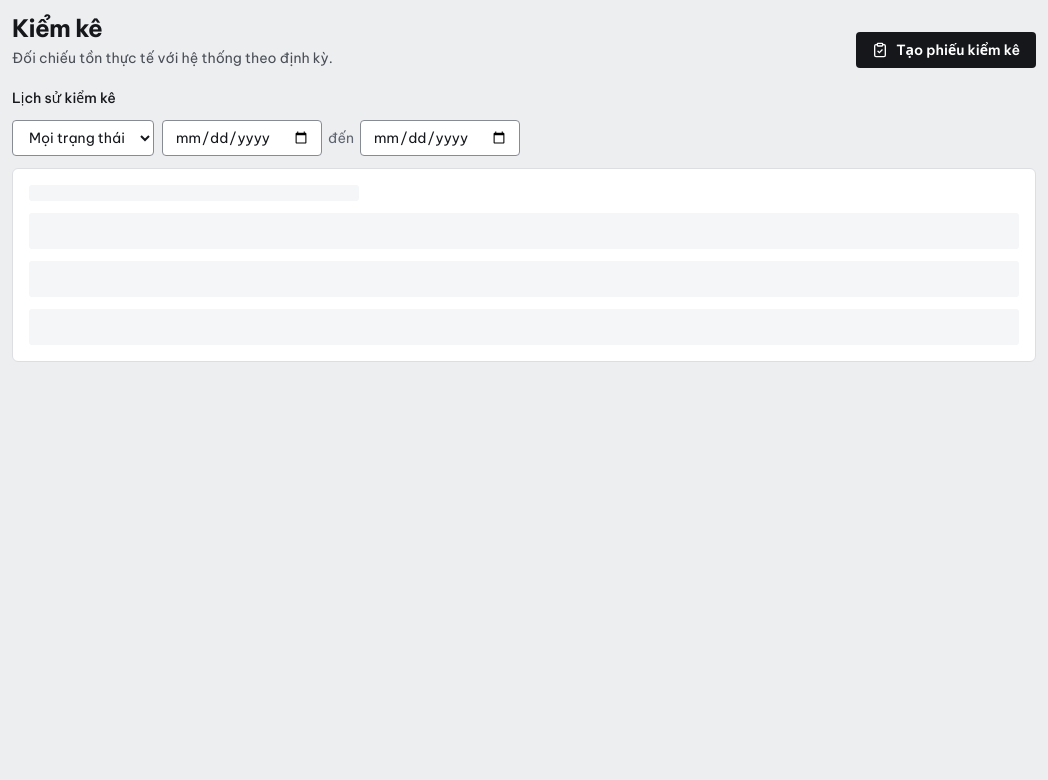
Scenario: StocktakePanel › keeps the confirm button disabled until every ingredient has a count
Click the button "Tạo phiếu kiểm kê" at (946, 50), box [856,32,1036,68]
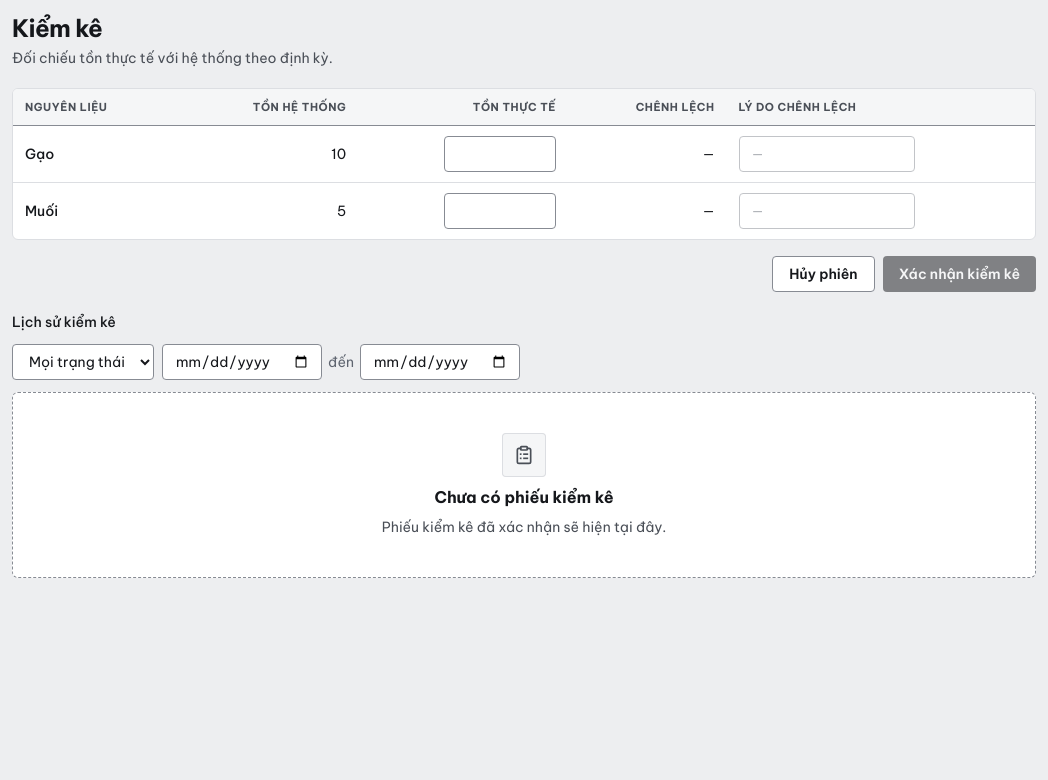
Result: the button "Xác nhận kiểm kê" is disabled at [883,256,1036,292]
Type "9" into the number field named "Tồn thực tế Gạo" at (500, 154), box [444,136,556,172]
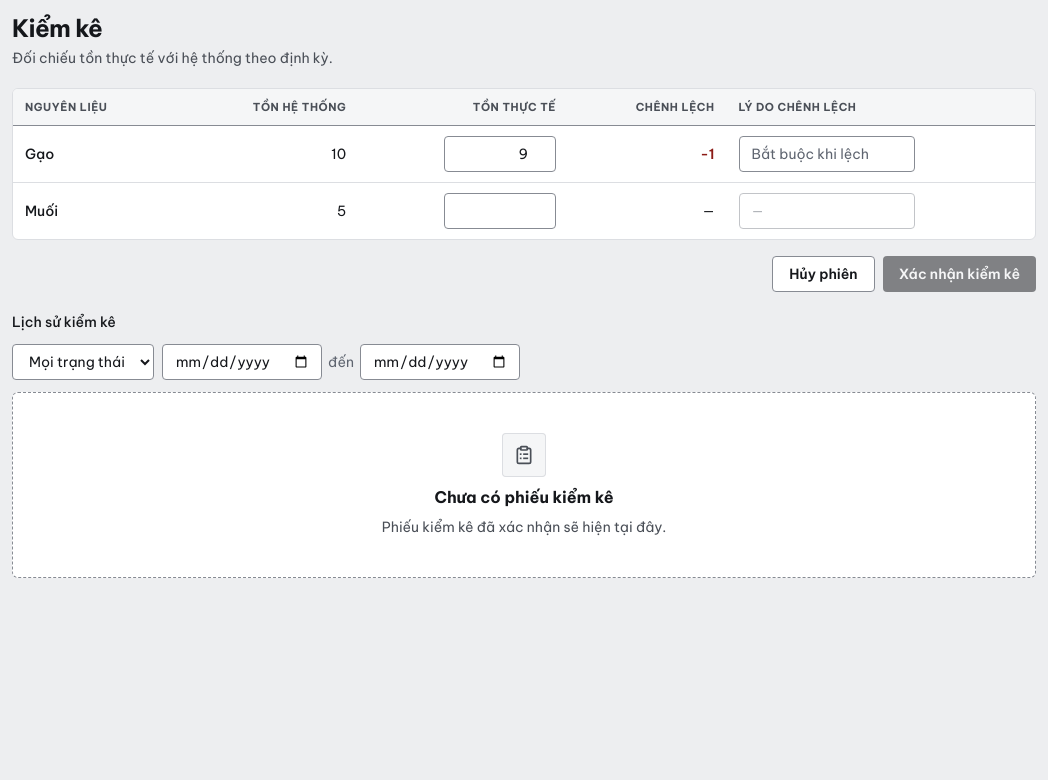
Result: the button "Xác nhận kiểm kê" is disabled at [883,256,1036,292]
Type "4" into the number field named "Tồn thực tế Muối" at (500, 211), box [444,193,556,229]
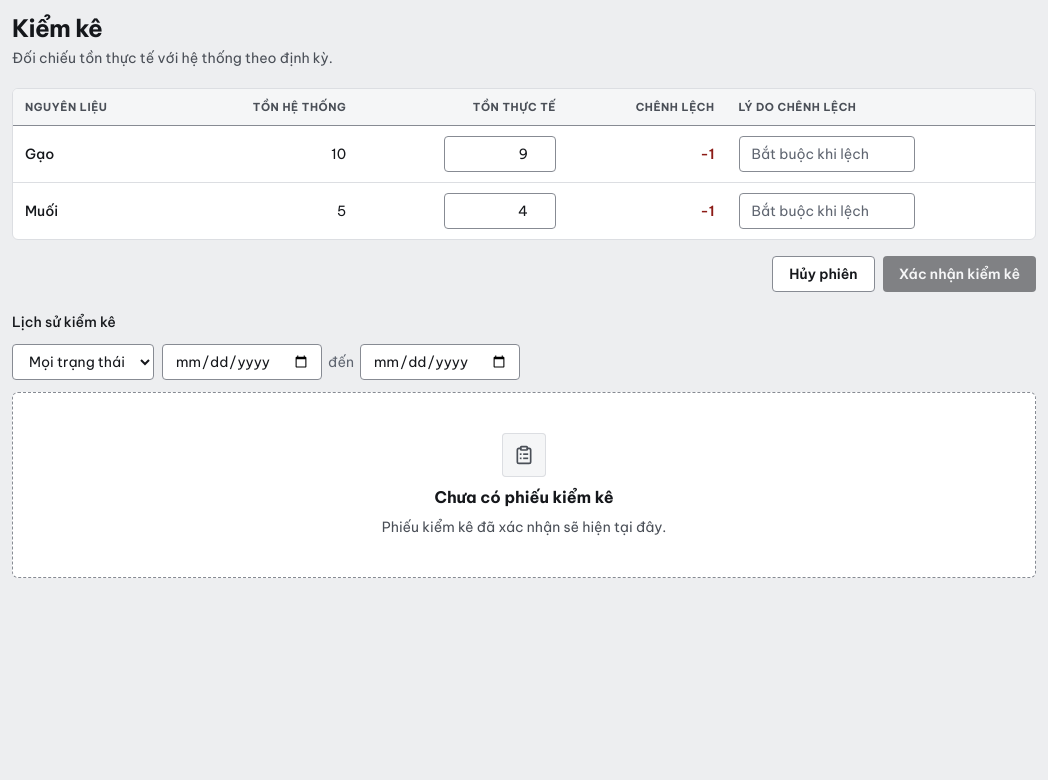
Result: the button "Xác nhận kiểm kê" is disabled at [883,256,1036,292]
Type "Rơi vỡ" into the field named "Lý do chênh lệch Gạo" at (826, 154), box [738,136,914,172]
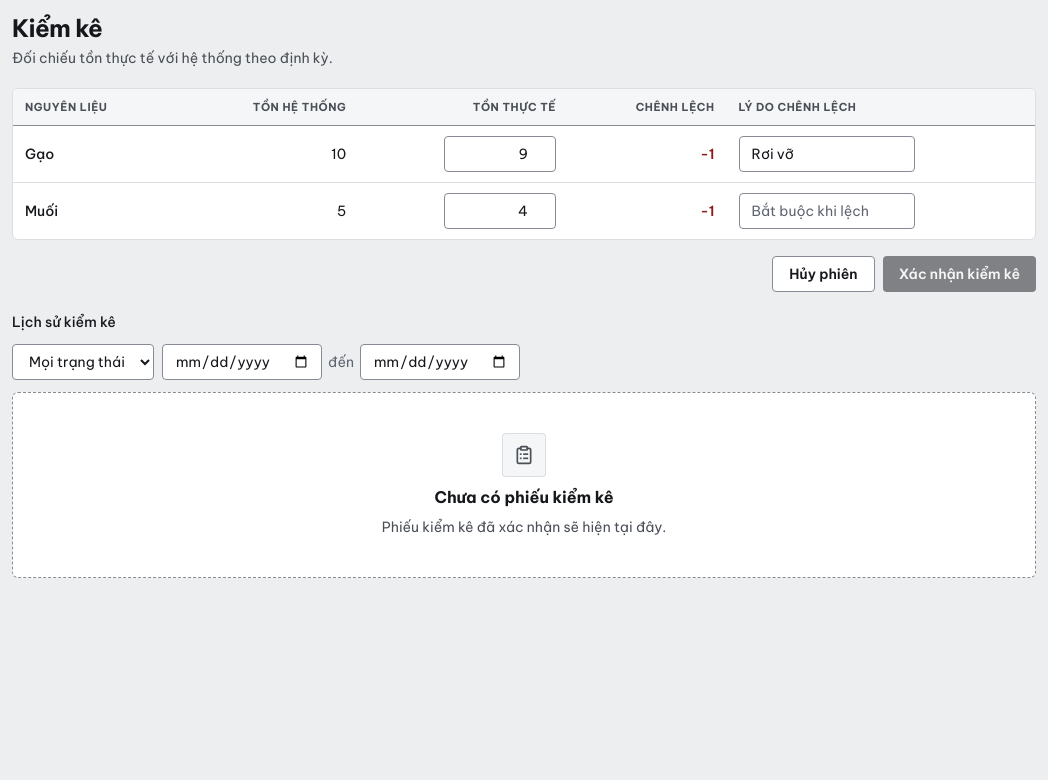
Type "Hao hụt" into the field named "Lý do chênh lệch Muối" at (826, 211), box [738,193,914,229]
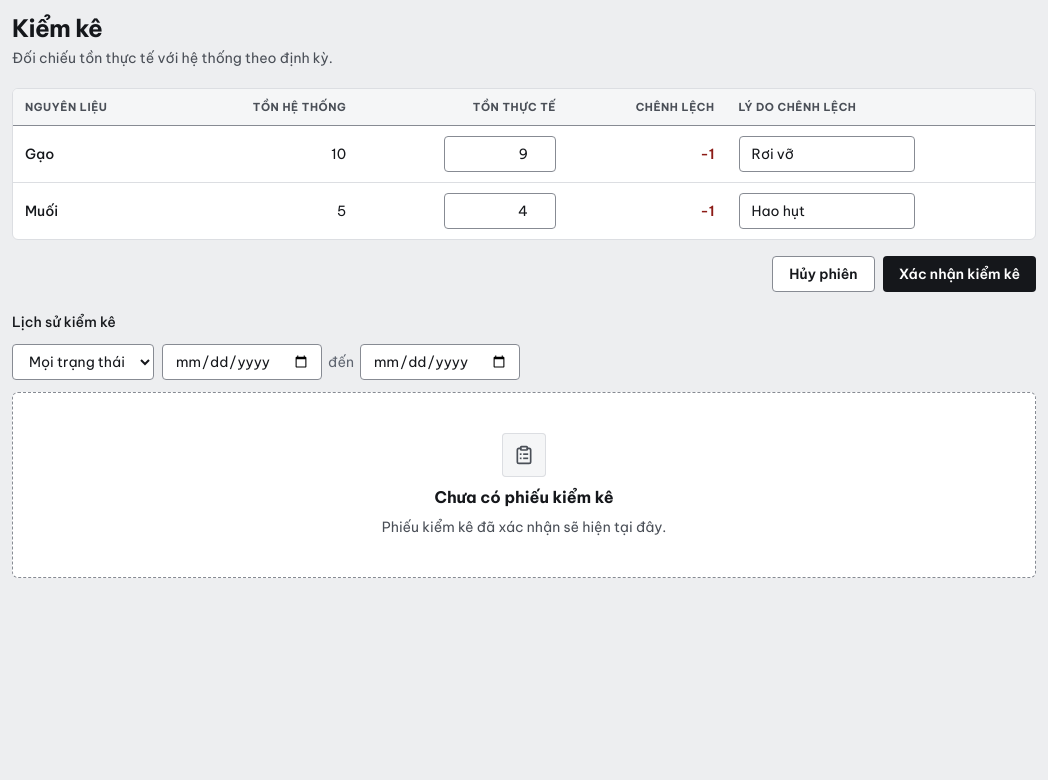
Result: the button "Xác nhận kiểm kê" is enabled at [883,256,1036,292]
